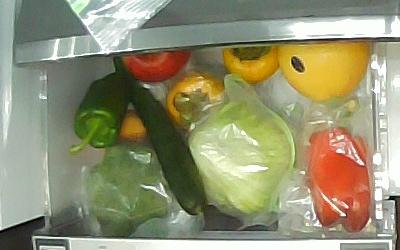apple: (121, 54, 190, 83)
broccoli_vinyl: (86, 142, 169, 236)
cucumber: (113, 55, 206, 217)
grapefruit: (277, 40, 368, 101)
lettuce_vinyl: (187, 100, 297, 212)
paprika: (69, 71, 134, 155)
paprika_vinyl: (301, 125, 372, 235)
peach: (118, 108, 148, 142)
persimmon: (166, 73, 225, 130), (220, 47, 279, 84)
